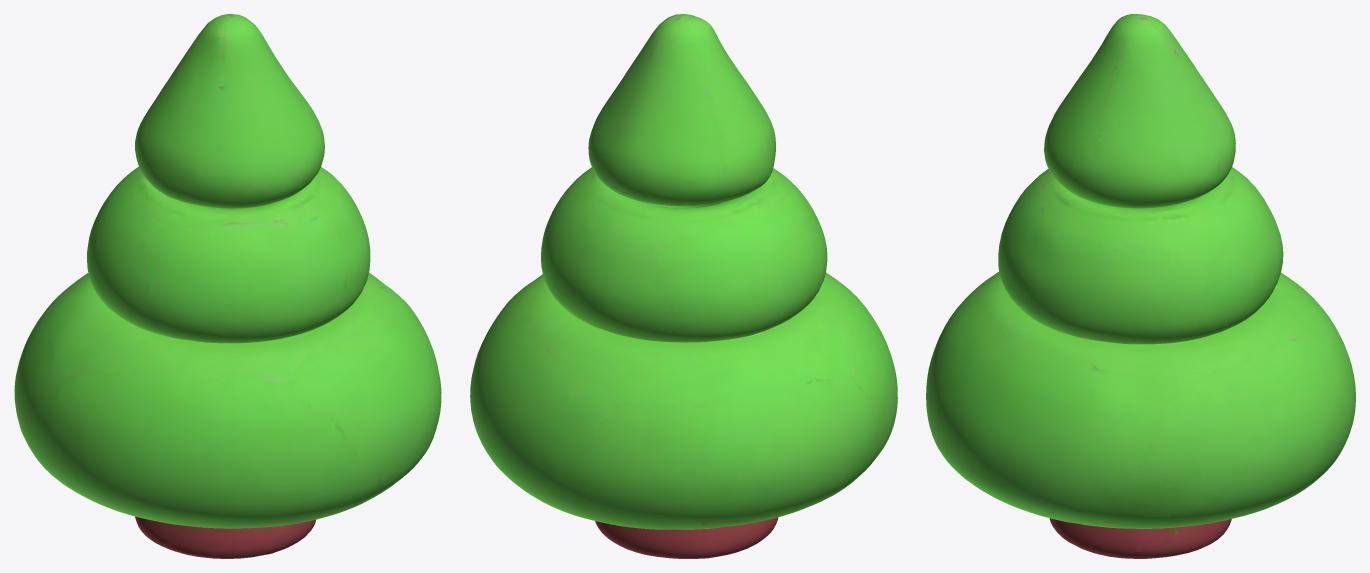
The model's file is pine-tree.glb.
3 views of the same model, side by side, from view 1: azimuth 30°, elevation 25°; view 2: azimuth 150°, elevation 25°; view 3: azimuth 270°, elevation 25° (orthographic).
Parts seen in each view (by area): view 1: Mesh; view 2: Mesh; view 3: Mesh.
Boxes of the visible parts, <box> form: Mesh: <box>14,14,441,558</box>; Mesh: <box>470,14,897,558</box>; Mesh: <box>926,14,1355,558</box>.
Size of the model in its own units: 0.7579 by 1 by 0.7632.
Materials: 1 (1 with a texture image).
